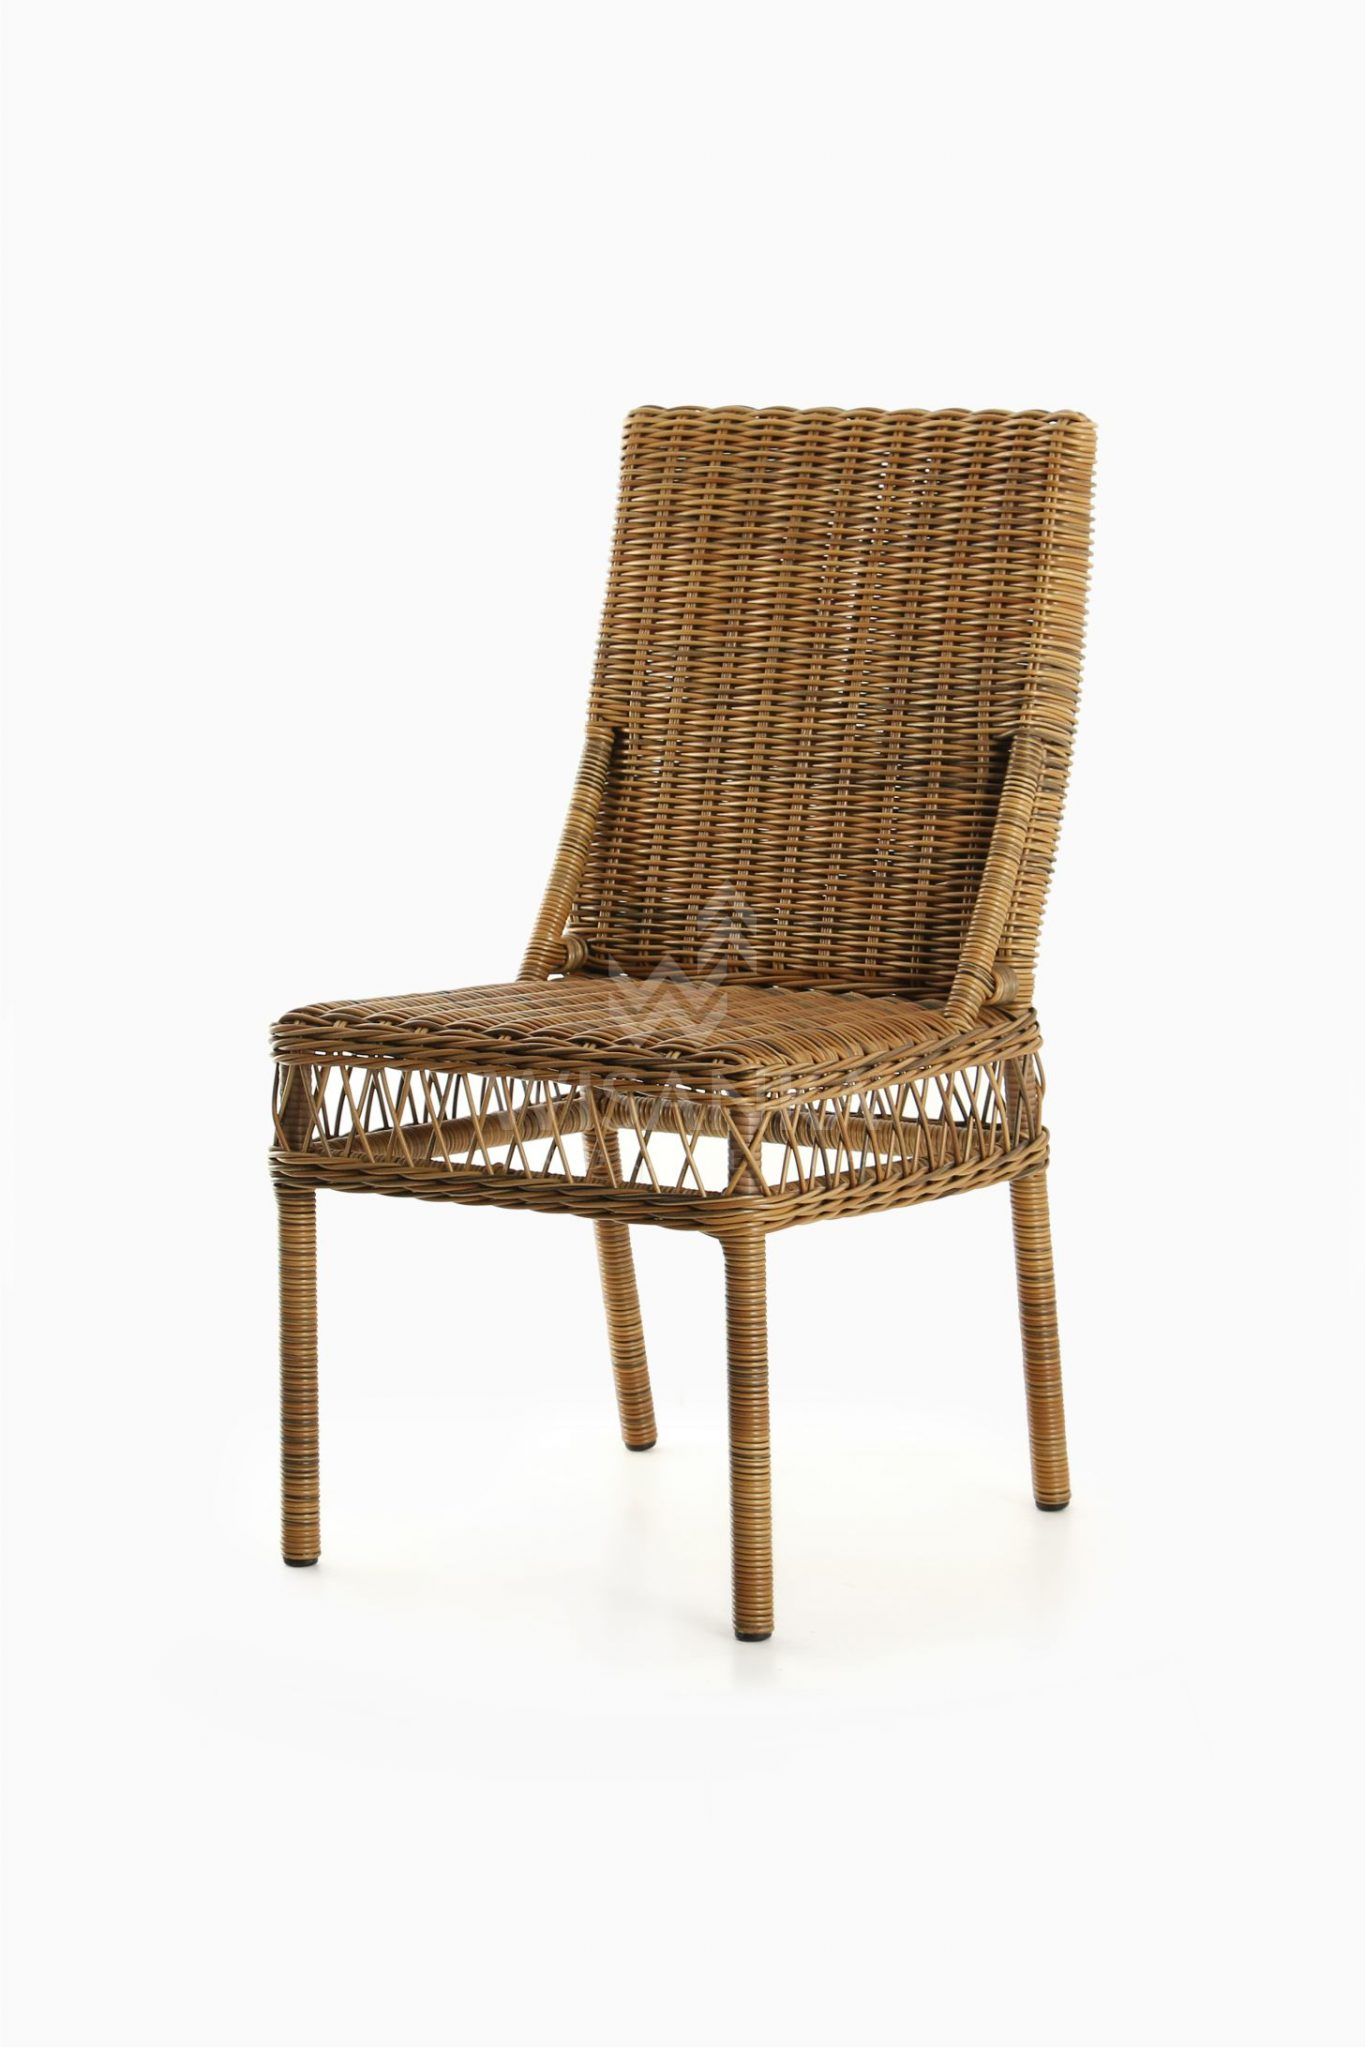kursi: (259, 390, 1101, 1599)
